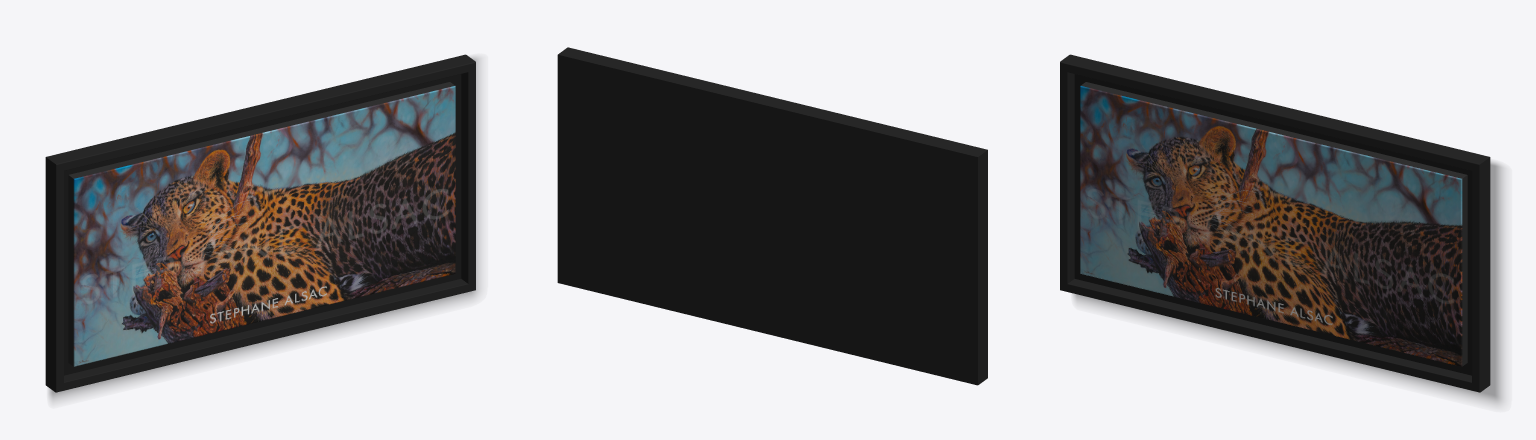
File: tableau-leopard-arbre-classique-c8b5321b.glb
3 views of the same model, side by side, from view 1: azimuth 30°, elevation 25°; view 2: azimuth 150°, elevation 25°; view 3: azimuth 330°, elevation 25° (orthographic).
Parts seen in each view (by area): view 1: Painting; view 2: Painting; view 3: Painting.
Boxes of the visible parts, <box> form: Painting: <box>45,54,478,400</box>; Painting: <box>557,47,987,385</box>; Painting: <box>1060,54,1502,403</box>.
Bounding box in the file's own units: 1.08 × 0.626 × 0.04.
5 materials, 3 textured.
